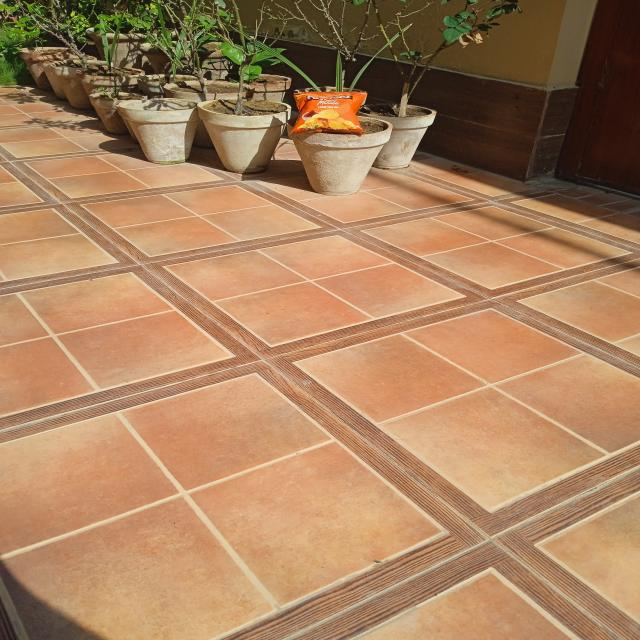Plastic: (294, 90, 368, 136)
